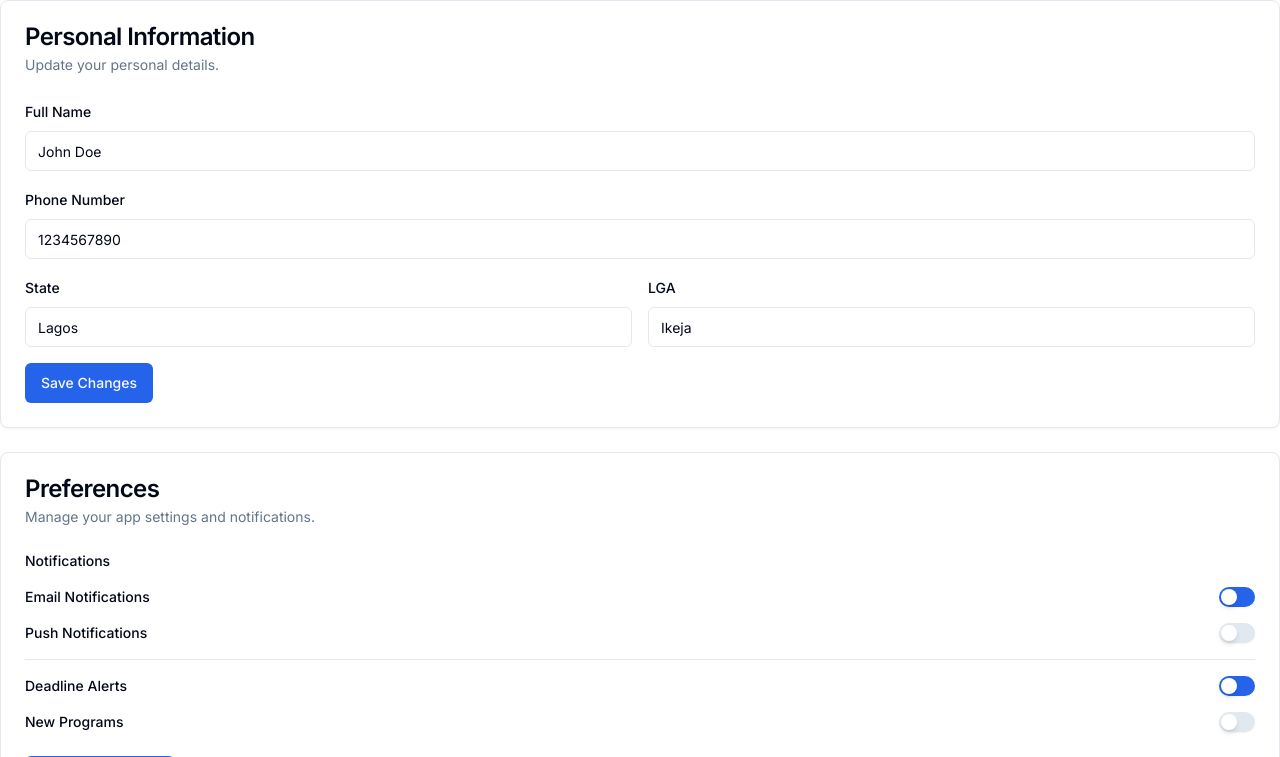
Test: UserProfileForm › validates required fields
Clear the field labelled "Full Name" at [640, 151], box [25,131,1255,171]
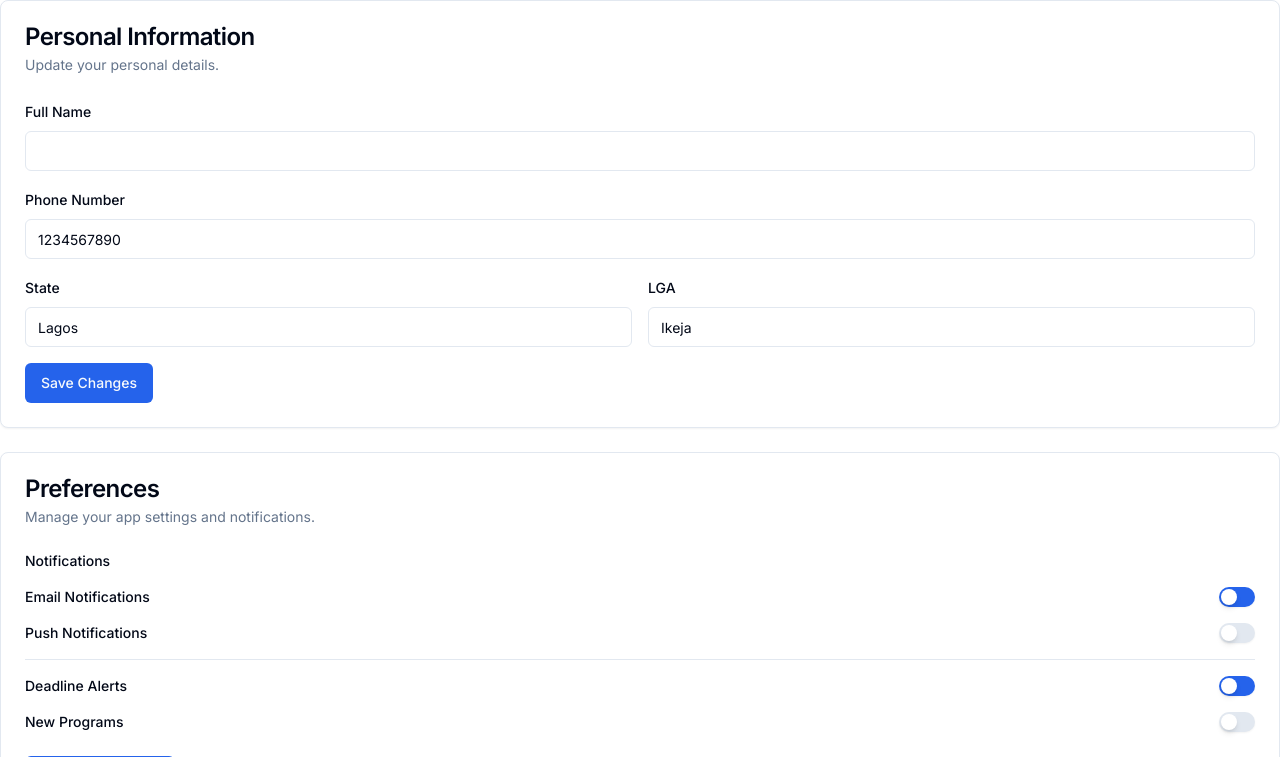
Click the button "Save Changes".
click(89, 383)  # box [25,363,153,403]
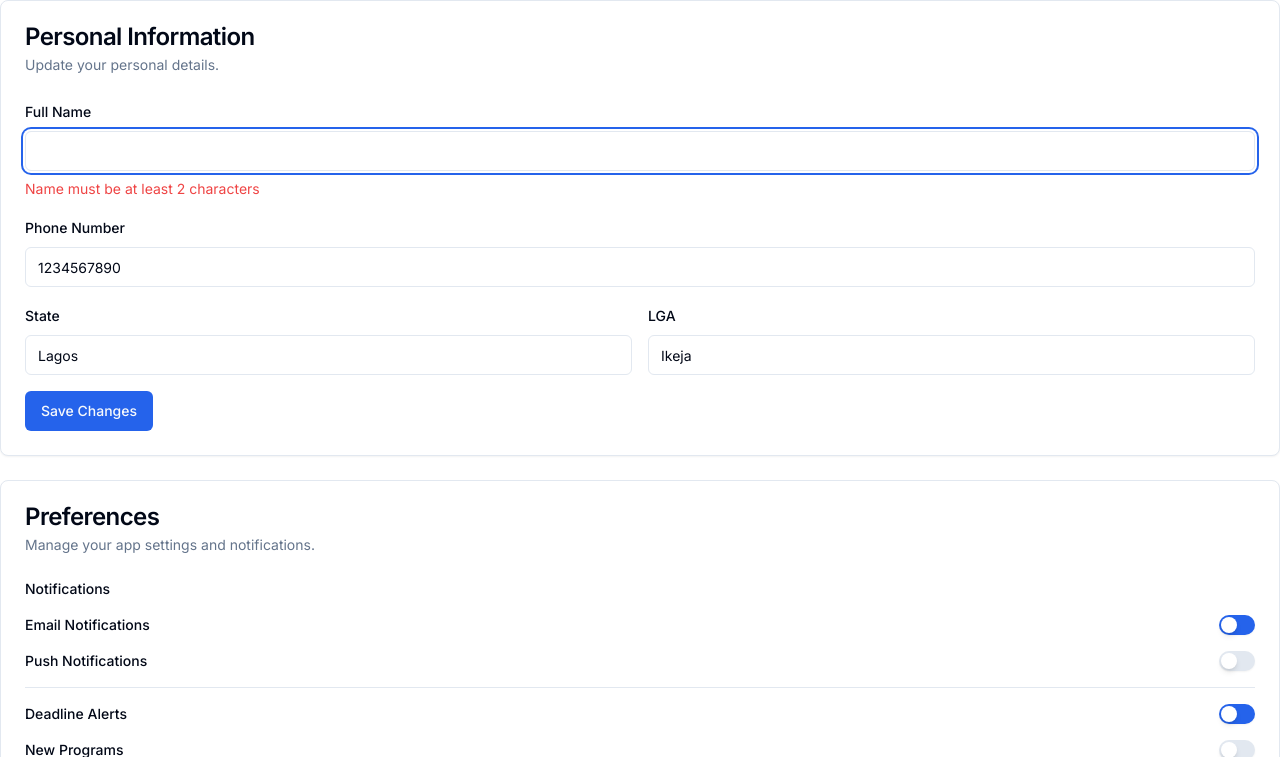
Now the text "Name must be at least 2 characters" is shown, box [25,180,260,197]
